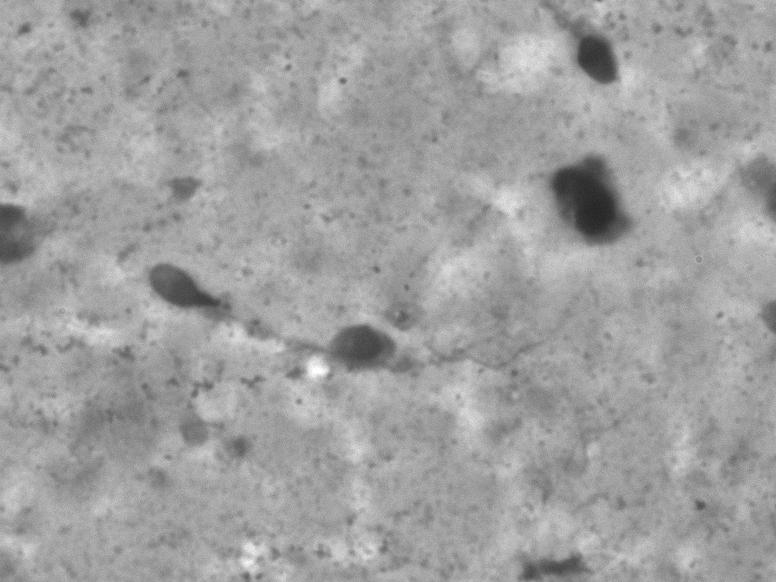Abnormal: (112, 246, 604, 409)
